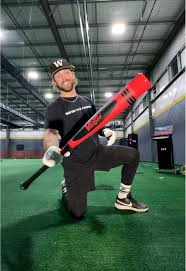baseball bat: (20, 70, 153, 191)
